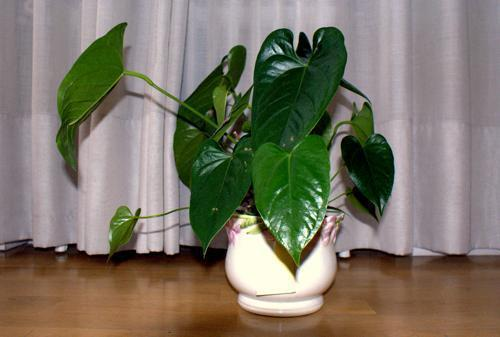Matera: (35, 10, 413, 325)
